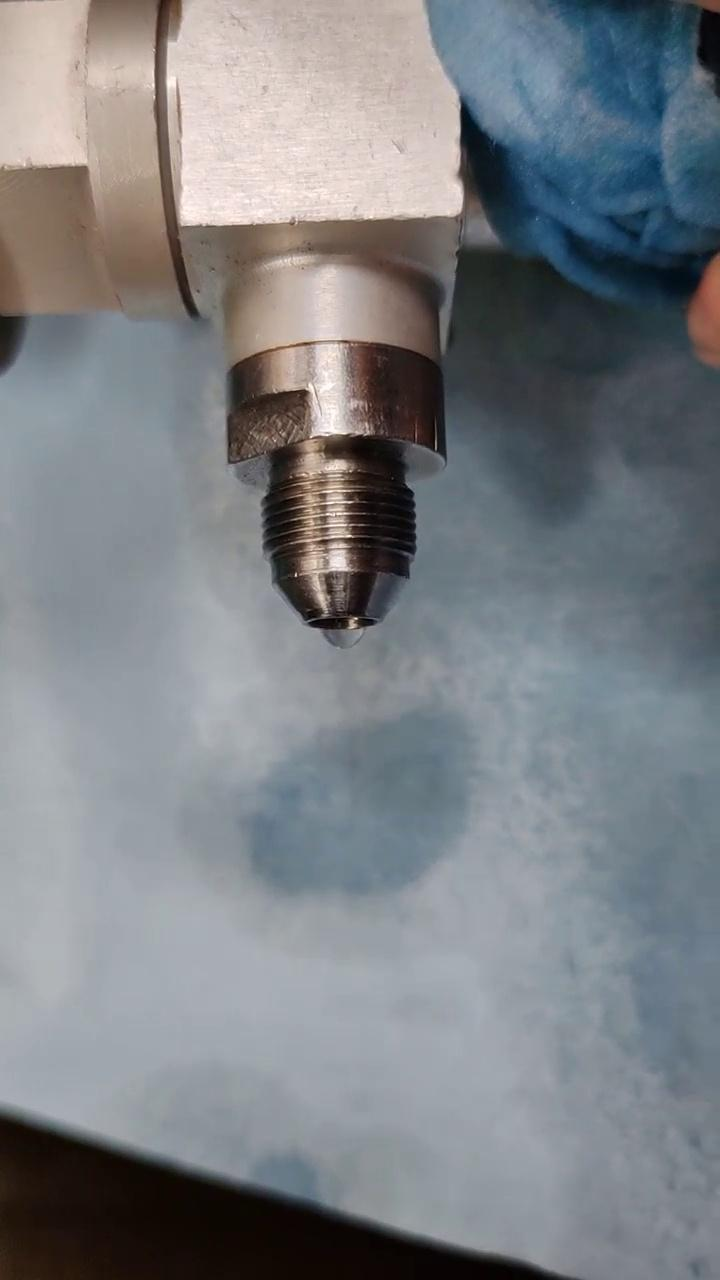water drop: (323, 621, 364, 649)
